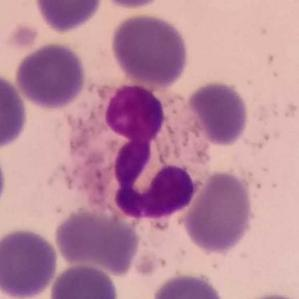Neutrophil: (63, 77, 210, 228)
Platelets: (9, 21, 42, 56)
RBC: (108, 11, 191, 89), (181, 169, 255, 254), (52, 205, 142, 274), (13, 40, 88, 111), (185, 79, 251, 147), (0, 225, 60, 299), (47, 262, 122, 299), (32, 0, 105, 34), (0, 69, 30, 151), (148, 270, 227, 299), (95, 0, 168, 10), (0, 145, 8, 214), (252, 291, 299, 299)
